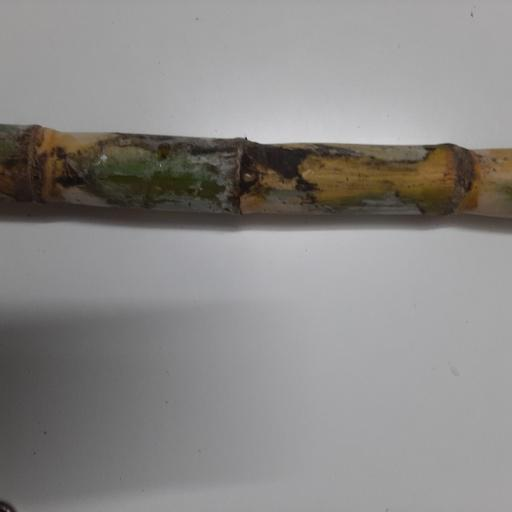Bud: (240, 163, 260, 188)
